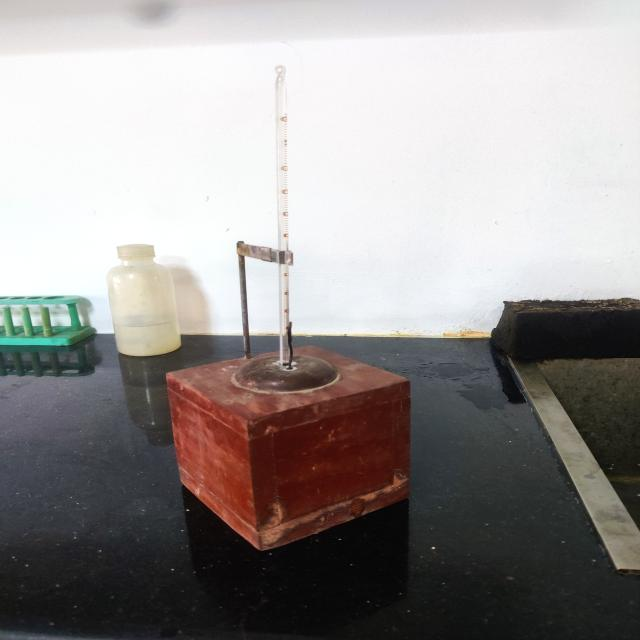Calorimeter: (150, 52, 433, 594)
